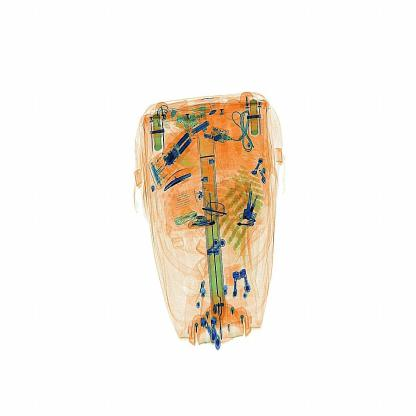pliers: (158, 167, 202, 198)
